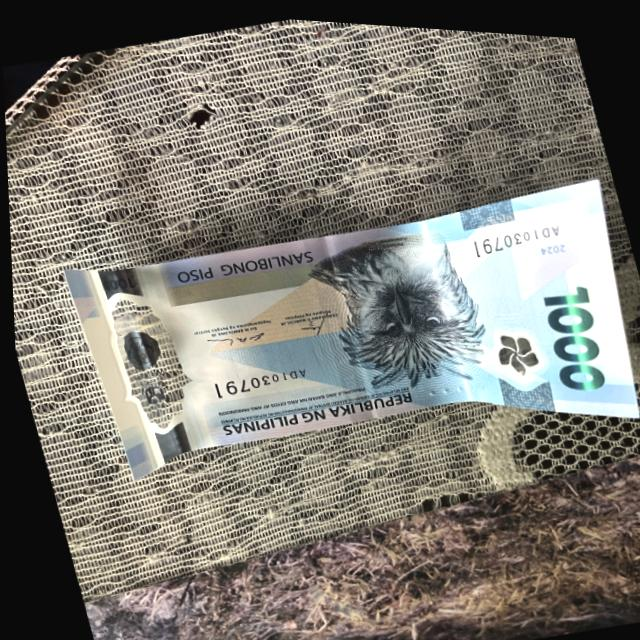clear_window: (78, 248, 216, 471)
eagle: (302, 212, 496, 405)
sampaguita: (475, 293, 543, 382)
security_thread: (296, 230, 370, 419)
serial_number: (193, 353, 311, 404), (459, 207, 563, 256)
